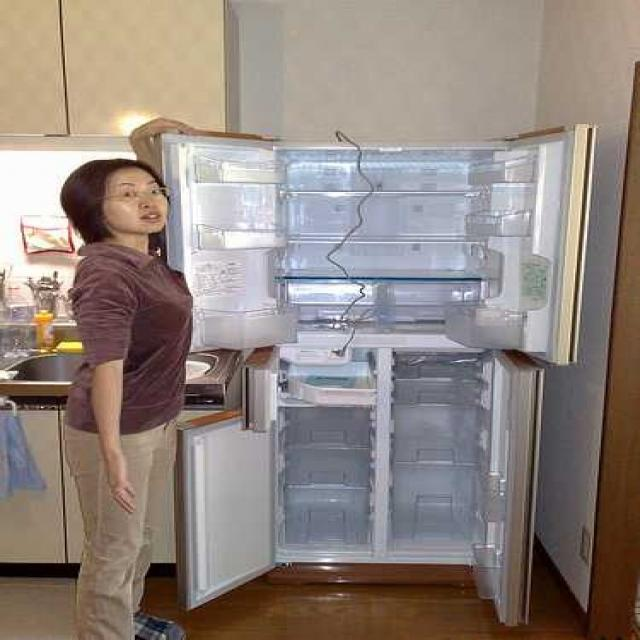refrigerator: (232, 146, 527, 582)
